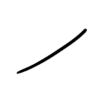no: (11, 23, 90, 79)
